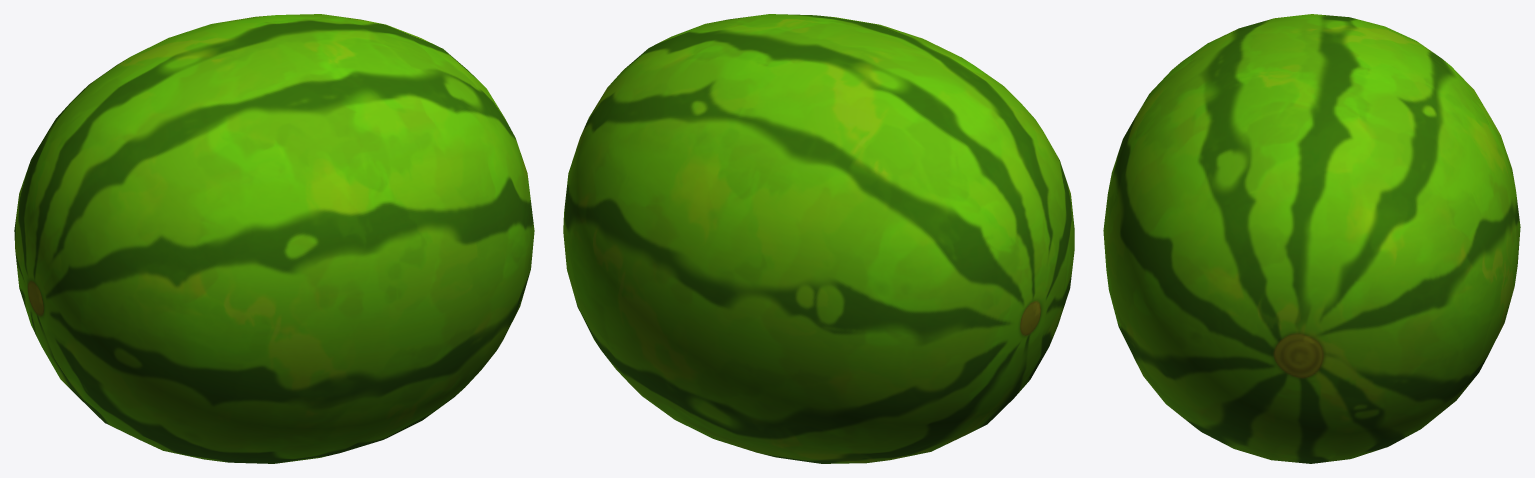
File: melon.fbx
3 views of the same model, side by side, from view 1: azimuth 30°, elevation 25°; view 2: azimuth 150°, elevation 25°; view 3: azimuth 270°, elevation 25° (orthographic). The views are drawn at different scales.
Parts seen in each view (by area): view 1: seed_watermelon; view 2: seed_watermelon; view 3: seed_watermelon.
Boxes of the visible parts, x1,y1,x2,y2 form: seed_watermelon: (14, 14, 534, 463); seed_watermelon: (563, 14, 1074, 463); seed_watermelon: (1103, 14, 1520, 463).
Bounding box in the file's own units: 84.97 × 71.27 × 71.34.
Materials: 1 (1 with a texture image).
